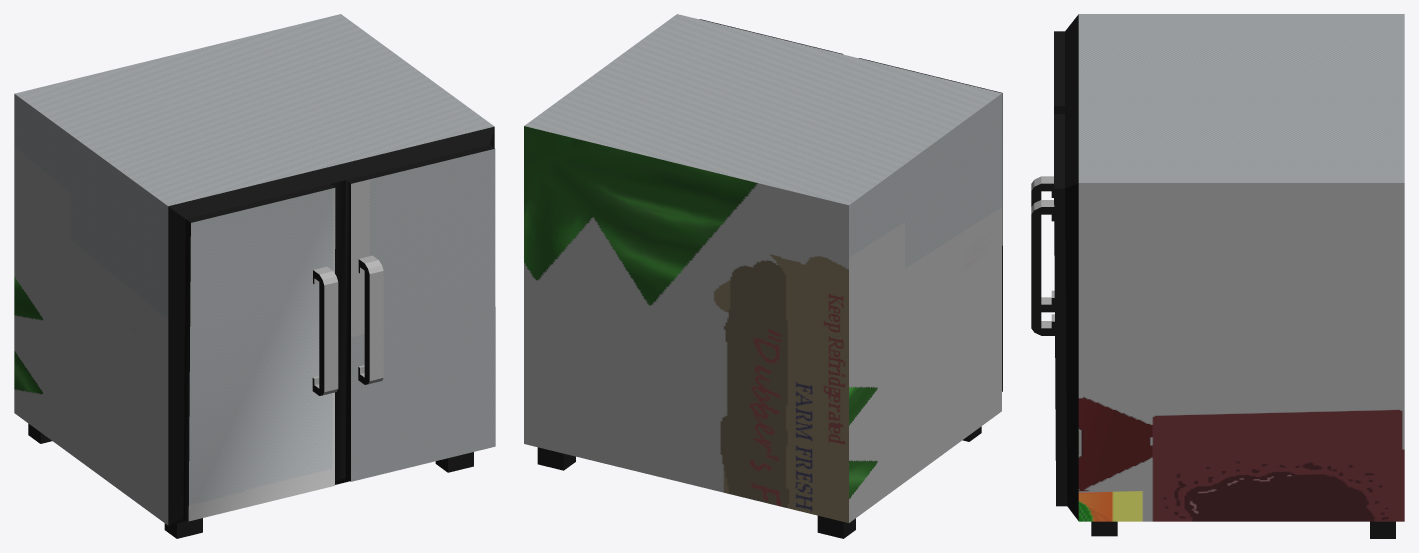
The model's file is fridge 11.fbx.
3 views of the same model, side by side, from view 1: azimuth 30°, elevation 25°; view 2: azimuth 150°, elevation 25°; view 3: azimuth 270°, elevation 25° (orthographic). The views are drawn at different scales.
Parts seen in each view (by area): view 1: Cube; view 2: Cube; view 3: Cube.
Boxes of the visible parts, x1,y1,x2,y2 form: Cube: [14, 14, 495, 538]; Cube: [524, 14, 1002, 538]; Cube: [1031, 14, 1404, 538].
Size of the model in its own units: 200 by 199 by 187.
